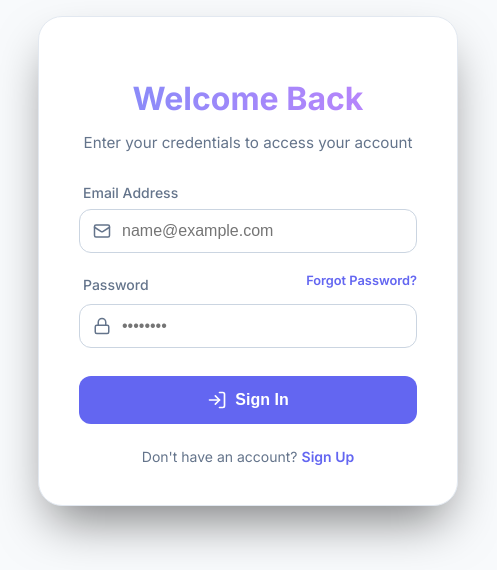
it: Auth Component › 8. should switch to Create Account when toggle is clicked
Step 1. Click the text "Sign Up" → click(328, 456), box [302,448,354,465]
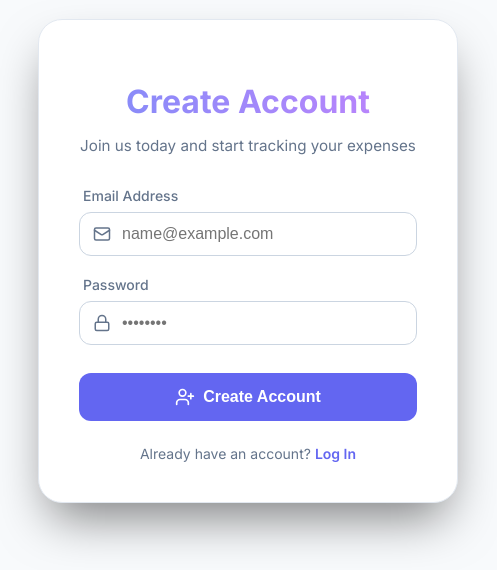
Now the heading "Create Account" is shown, box [79,82,417,121]
